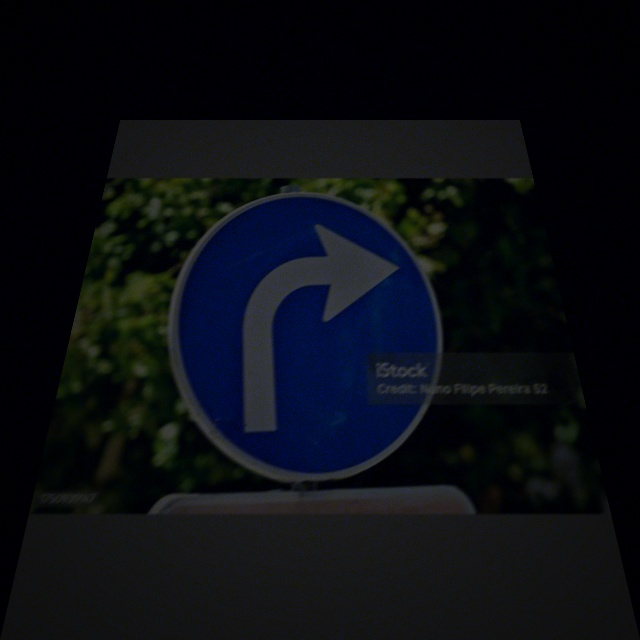Compulsory_Turn_Right_Ahead: (156, 192, 452, 467)
